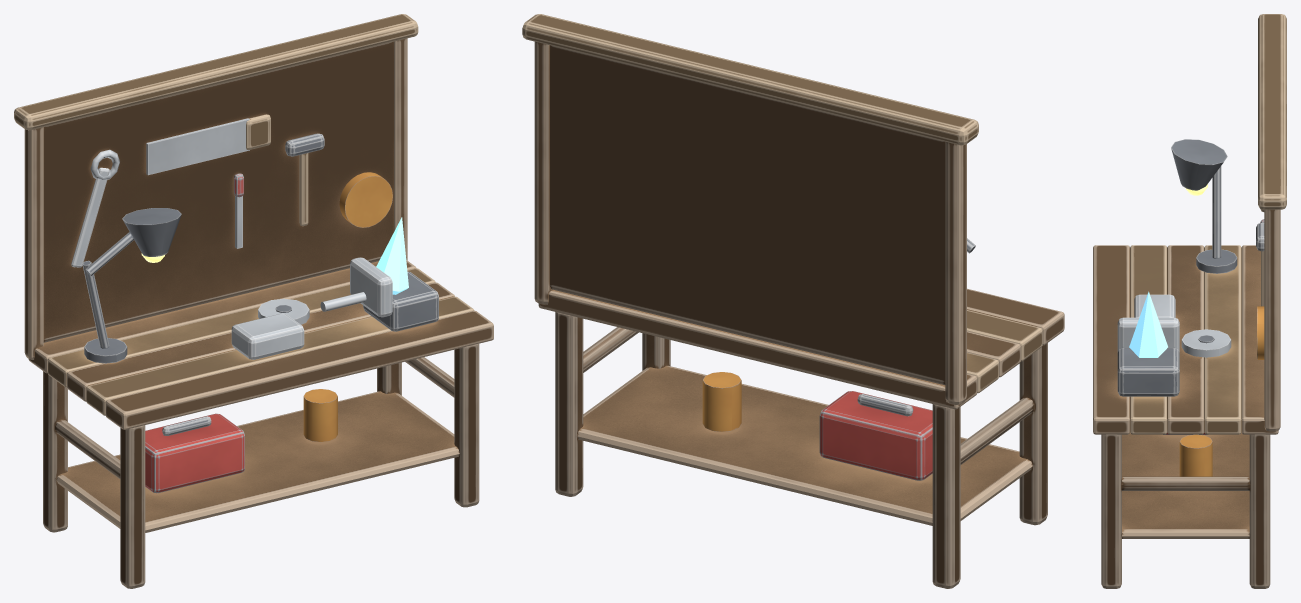
The model's file is workbench_painted.glb.
The picture shows the model from 3 angles, left to right: view 1: azimuth 30°, elevation 25°; view 2: azimuth 150°, elevation 25°; view 3: azimuth 270°, elevation 25°; orthographic projection. The views are drawn at different scales.
Parts seen in each view (by area): view 1: Workbench; view 2: Workbench; view 3: Workbench.
Part boxes in pixels (bbox=[...]): Workbench: bbox=[14, 14, 493, 588]; Workbench: bbox=[522, 14, 1064, 588]; Workbench: bbox=[1093, 14, 1286, 588].
Bounding box in the file's own units: 2.12 × 2.16 × 0.94.
9 materials, 7 textured.
